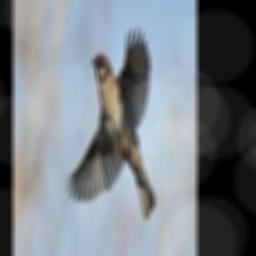Sparrow: (65, 25, 155, 220)
